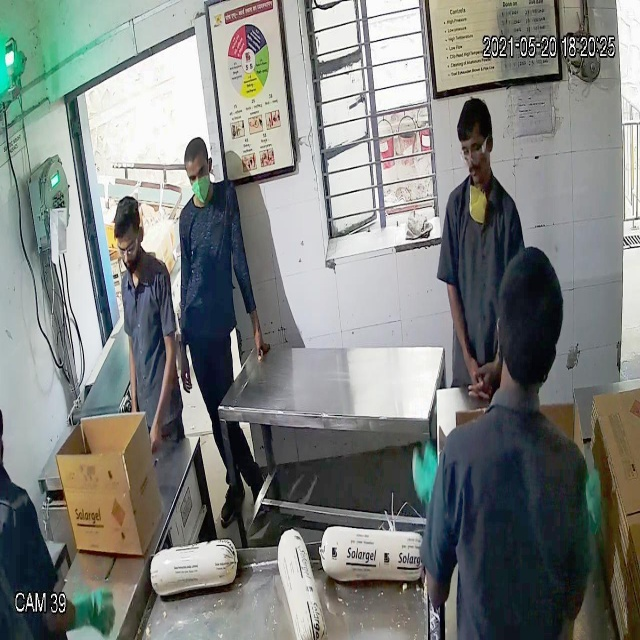Gafas: (458, 137, 491, 164), (114, 240, 142, 260)
Sin_gafas: (184, 164, 214, 185)
